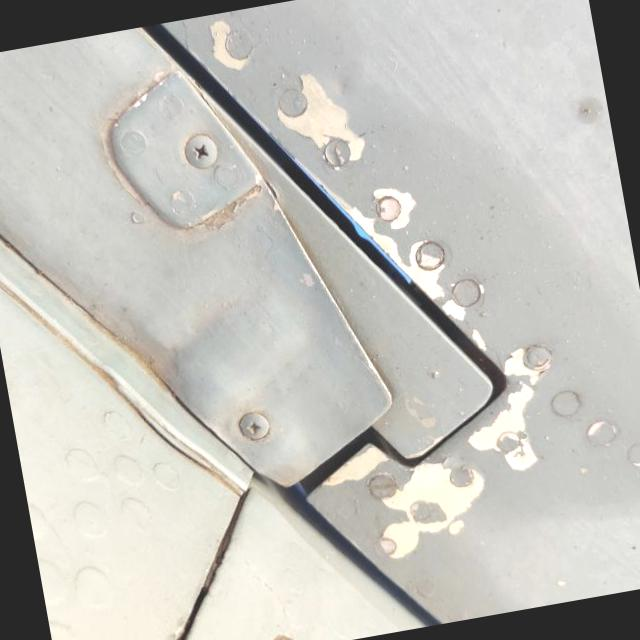paint-off: (301, 404, 507, 590), (310, 155, 488, 355), (436, 327, 589, 490), (249, 47, 397, 192), (189, 5, 277, 90)
